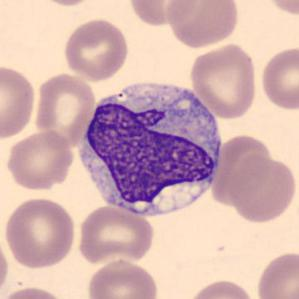Monocyte: (73, 74, 226, 223)
RBC: (2, 195, 78, 270), (188, 41, 259, 121), (32, 71, 98, 150), (75, 203, 156, 267), (226, 153, 297, 224), (210, 132, 274, 206), (3, 129, 76, 192), (62, 16, 130, 82), (164, 0, 242, 50), (86, 258, 160, 299), (0, 62, 37, 141), (258, 45, 298, 112), (254, 248, 298, 299), (126, 0, 200, 27), (184, 276, 258, 299), (1, 284, 68, 299), (0, 231, 11, 298), (260, 0, 299, 17), (30, 0, 99, 7)
